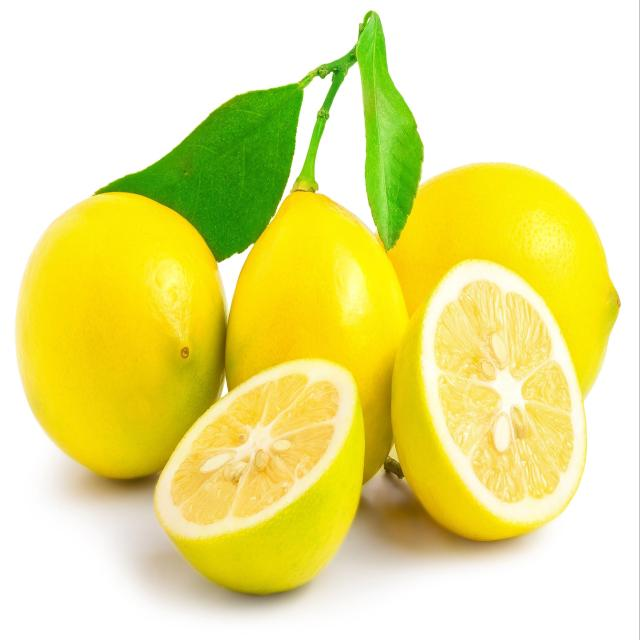lemon: (8, 185, 236, 485), (383, 254, 592, 549)
